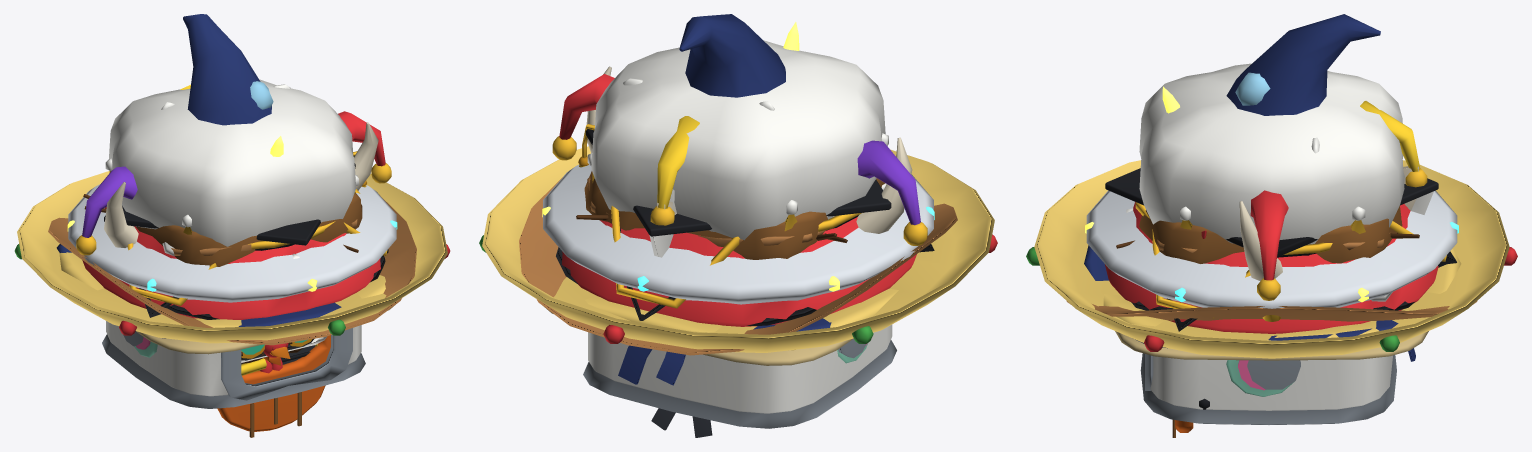
Rendered from cosmetics_a.glb.
The picture shows the model from 3 angles, left to right: view 1: azimuth 30°, elevation 25°; view 2: azimuth 150°, elevation 25°; view 3: azimuth 270°, elevation 25°; orthographic projection. The views are drawn at different scales.
Visible parts, largest first — view 1: C_hat_chef, C_hat_sombrero, C_hat_ufo, C_hat_astro, C_hat_wizard, C_hat_mushroom, C_hat_cowboy, C_face_beard, C_hat_nest, C_hat_jester, C_hat_viking, C_hat_straw (+6 smaller); view 2: C_hat_chef, C_hat_sombrero, C_hat_ufo, C_hat_astro, C_hat_mushroom, C_hat_wizard, C_hat_jester, C_hat_cowboy, C_hat_nest, C_hat_straw, C_hat_grad, C_hat_pirate (+6 smaller); view 3: C_hat_chef, C_hat_sombrero, C_hat_ufo, C_hat_astro, C_hat_wizard, C_hat_mushroom, C_hat_nest, C_hat_cowboy, C_hat_jester, C_hat_straw, C_hat_bucket, C_hat_grad (+5 smaller).
Part boxes in pixels (<box>): C_hat_chef: <box>109,79,356,246</box>; C_hat_sombrero: <box>14,171,450,343</box>; C_hat_ufo: <box>67,184,397,302</box>; C_hat_astro: <box>102,321,365,408</box>; C_hat_wizard: <box>56,14,341,338</box>; C_hat_mushroom: <box>82,207,380,319</box>; C_hat_cowboy: <box>48,195,416,345</box>; C_face_beard: <box>217,335,330,437</box>; C_hat_nest: <box>83,192,362,266</box>; C_hat_jester: <box>76,84,391,255</box>; C_hat_viking: <box>104,122,378,247</box>; C_hat_straw: <box>59,252,385,327</box>; C_hat_chef: <box>591,40,885,240</box>; C_hat_sombrero: <box>479,146,997,352</box>; C_hat_ufo: <box>542,164,934,304</box>; C_hat_astro: <box>583,324,896,428</box>; C_hat_mushroom: <box>562,183,916,326</box>; C_hat_wizard: <box>679,14,831,331</box>; C_hat_jester: <box>552,74,927,245</box>; C_hat_cowboy: <box>519,177,957,355</box>; C_hat_nest: <box>576,171,885,259</box>; C_hat_straw: <box>585,288,898,350</box>; C_hat_grad: <box>578,124,891,236</box>; C_hat_pirate: <box>611,206,934,320</box>; C_hat_chef: <box>1139,63,1404,244</box>; C_hat_sombrero: <box>1026,160,1517,358</box>; C_hat_ufo: <box>1085,190,1458,308</box>; C_hat_astro: <box>1140,353,1396,424</box>; C_hat_wizard: <box>1084,14,1398,348</box>; C_hat_mushroom: <box>1105,202,1438,333</box>; C_hat_nest: <box>1116,206,1419,263</box>; C_hat_cowboy: <box>1066,205,1477,321</box>; C_hat_jester: <box>1250,101,1427,300</box>; C_hat_straw: <box>1103,248,1461,337</box>; C_hat_bucket: <box>1115,331,1428,360</box>; C_hat_grad: <box>1105,168,1438,321</box>.
Bounding box in the file's own units: 4.6 × 4.37 × 4.76.
